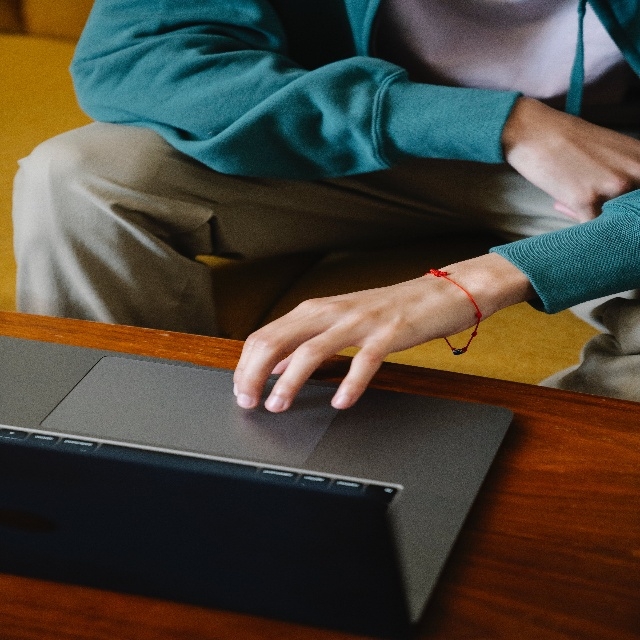Sin_guantes: (233, 262, 470, 413), (502, 93, 640, 225)
